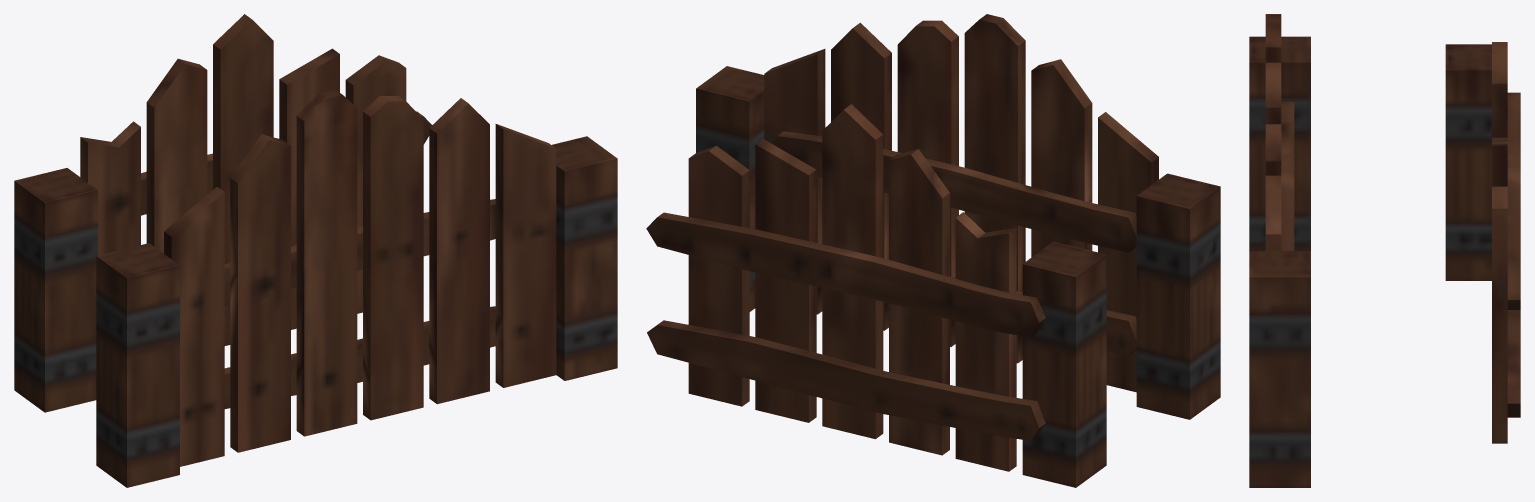
File: SM_WoodenFence (1).fbx
The picture shows the model from 3 angles, left to right: view 1: azimuth 30°, elevation 25°; view 2: azimuth 150°, elevation 25°; view 3: azimuth 270°, elevation 25°; orthographic projection.
Visible parts, largest first — view 1: Wooden_gate, Wooden_gateframe, Wooden_fence, Wooden_fenceframe; view 2: Wooden_fence, Wooden_gate, Wooden_gateframe, Wooden_fenceframe; view 3: Wooden_gateframe, Wooden_fenceframe, Wooden_fence, Wooden_gate.
Boxes of the visible parts, left/top/right/bottom form: Wooden_gate: left=164, top=89, right=556, bottom=466; Wooden_gateframe: left=96, top=136, right=617, bottom=487; Wooden_fence: left=80, top=14, right=431, bottom=345; Wooden_fenceframe: left=14, top=168, right=97, bottom=412; Wooden_fence: left=646, top=104, right=1045, bottom=471; Wooden_gate: left=764, top=14, right=1158, bottom=392; Wooden_gateframe: left=696, top=66, right=1220, bottom=419; Wooden_fenceframe: left=1022, top=241, right=1106, bottom=487; Wooden_gateframe: left=1249, top=36, right=1310, bottom=487; Wooden_fenceframe: left=1445, top=44, right=1491, bottom=280; Wooden_fence: left=1492, top=42, right=1520, bottom=443; Wooden_gate: left=1265, top=14, right=1294, bottom=251.
Bounding box in the file's own units: 212 × 137 × 101.
1 material, 1 textured.
